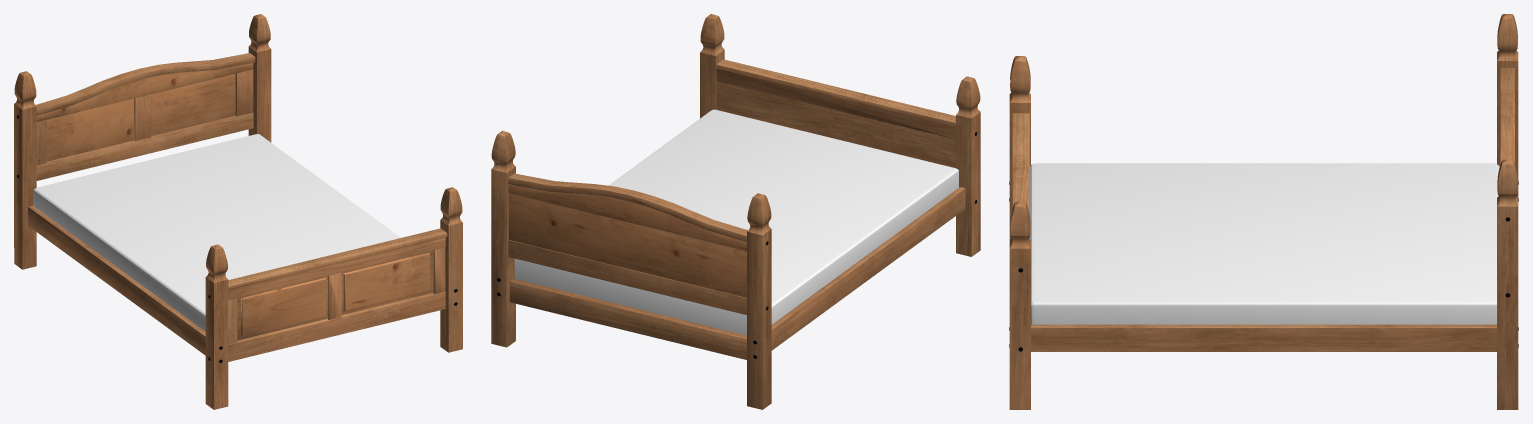
The model's file is B07BBWMPJM.glb.
3 renders of one model, left to right at view 1: azimuth 30°, elevation 25°; view 2: azimuth 150°, elevation 25°; view 3: azimuth 270°, elevation 25°, orthographic. The views are drawn at different scales.
Parts seen in each view (by area): view 1: B07BBWMPJM; view 2: B07BBWMPJM; view 3: B07BBWMPJM.
Boxes of the visible parts, box(x1,y1,x2,y2) form: B07BBWMPJM: box(14, 14, 462, 409); B07BBWMPJM: box(491, 14, 980, 409); B07BBWMPJM: box(1009, 14, 1518, 409).
Size of the model in its own units: 1.49 by 1.1 by 2.07.
1 material, 1 textured.
